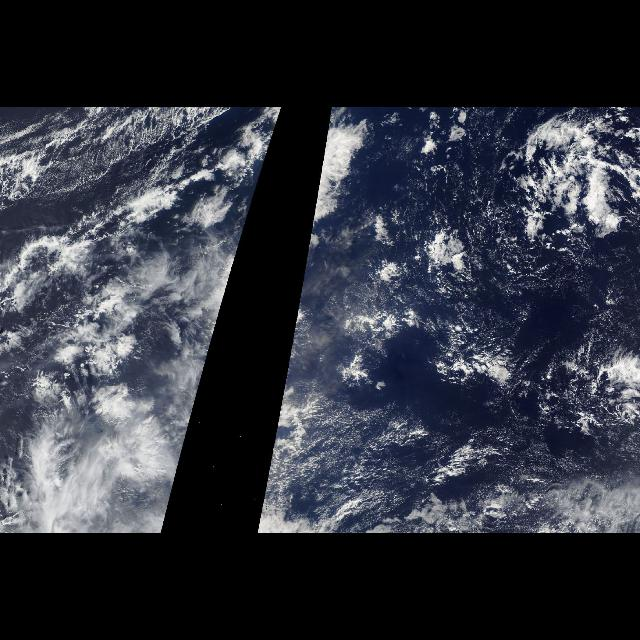Fish: (12, 117, 244, 206)
Sugar: (302, 392, 622, 532), (392, 118, 528, 312), (2, 112, 198, 190)
